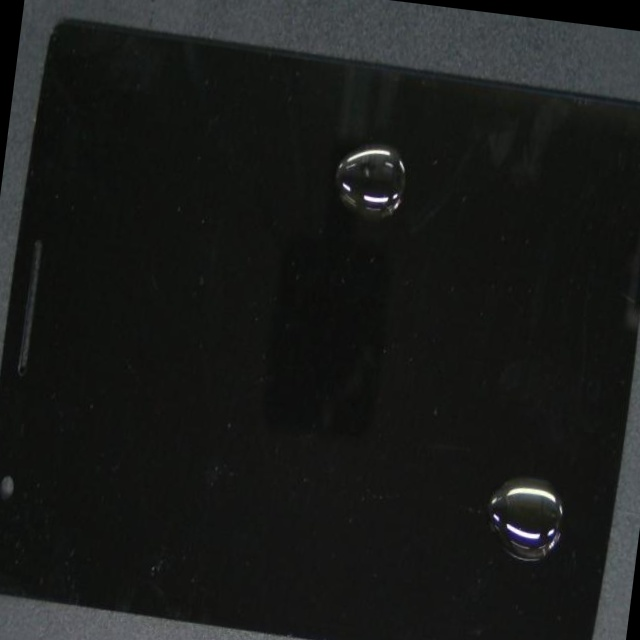oil: (265, 251, 640, 640), (222, 61, 599, 246)
